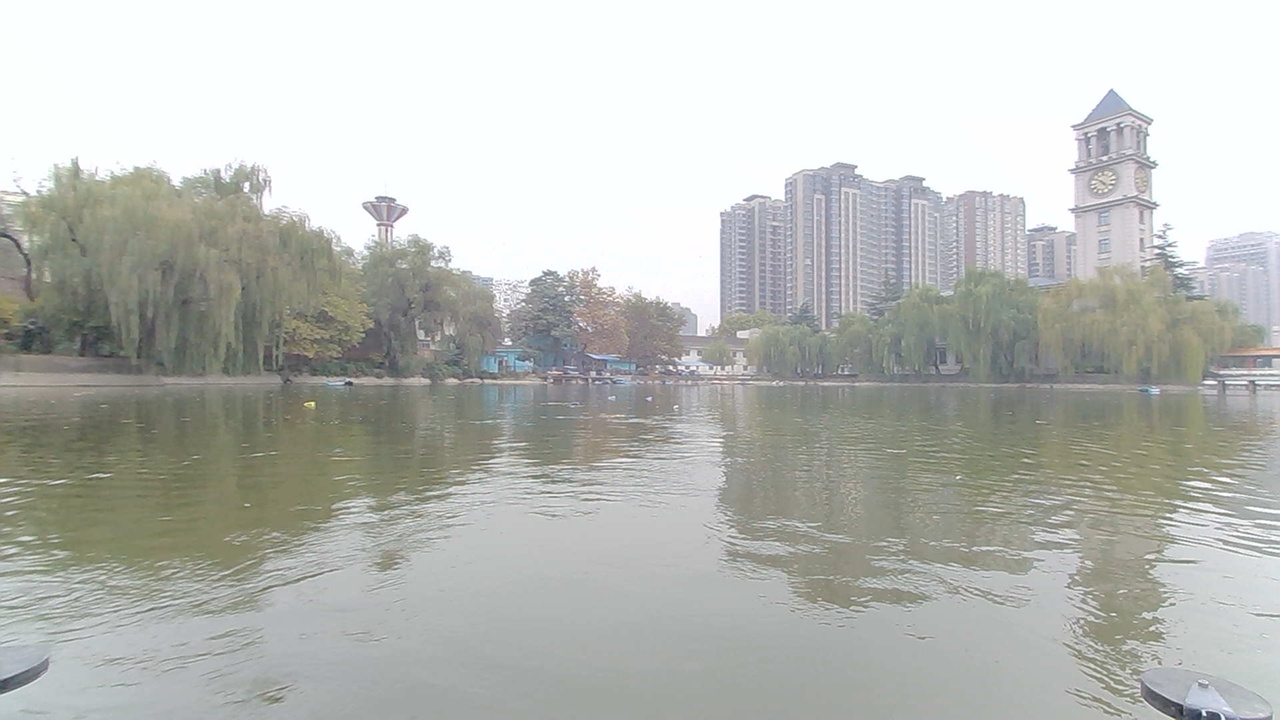bottle: (598, 384, 637, 405), (297, 393, 327, 415), (670, 393, 696, 413), (633, 385, 659, 404)
